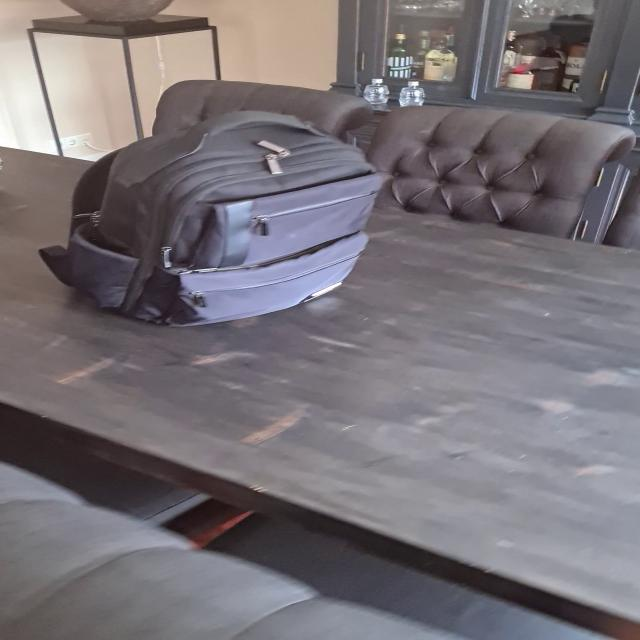backpack: (38, 107, 400, 333)
